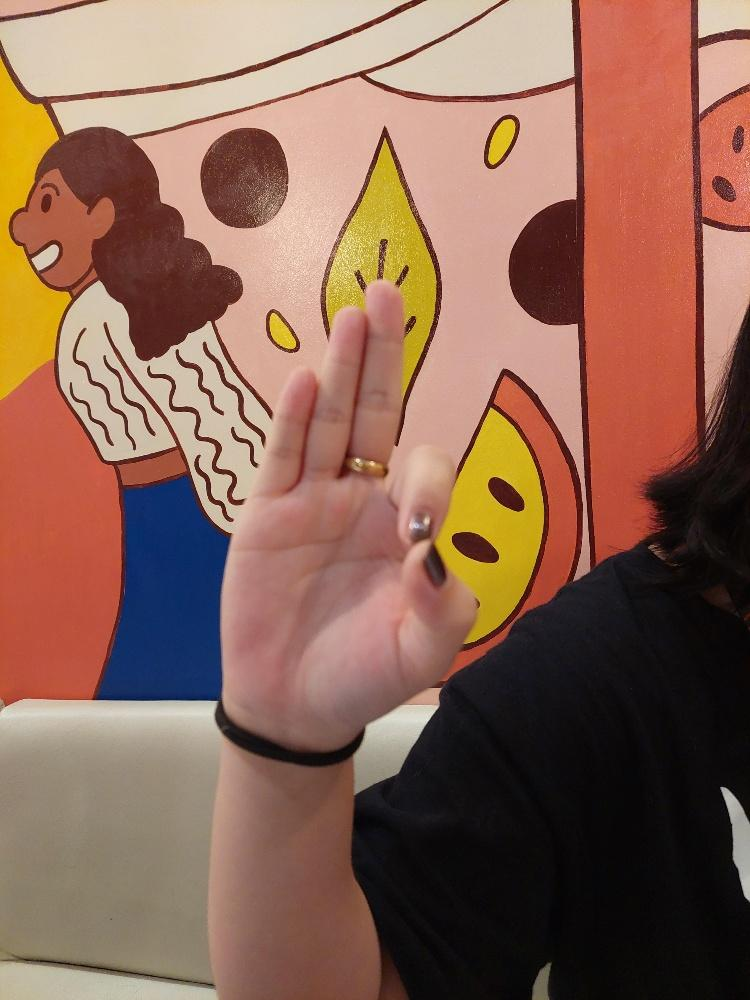f: (216, 276, 481, 750)
